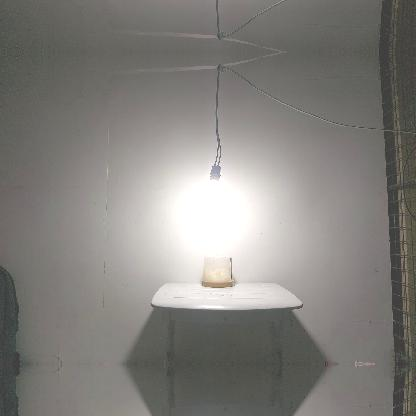Lady-s-Choice: (200, 254, 234, 286)
